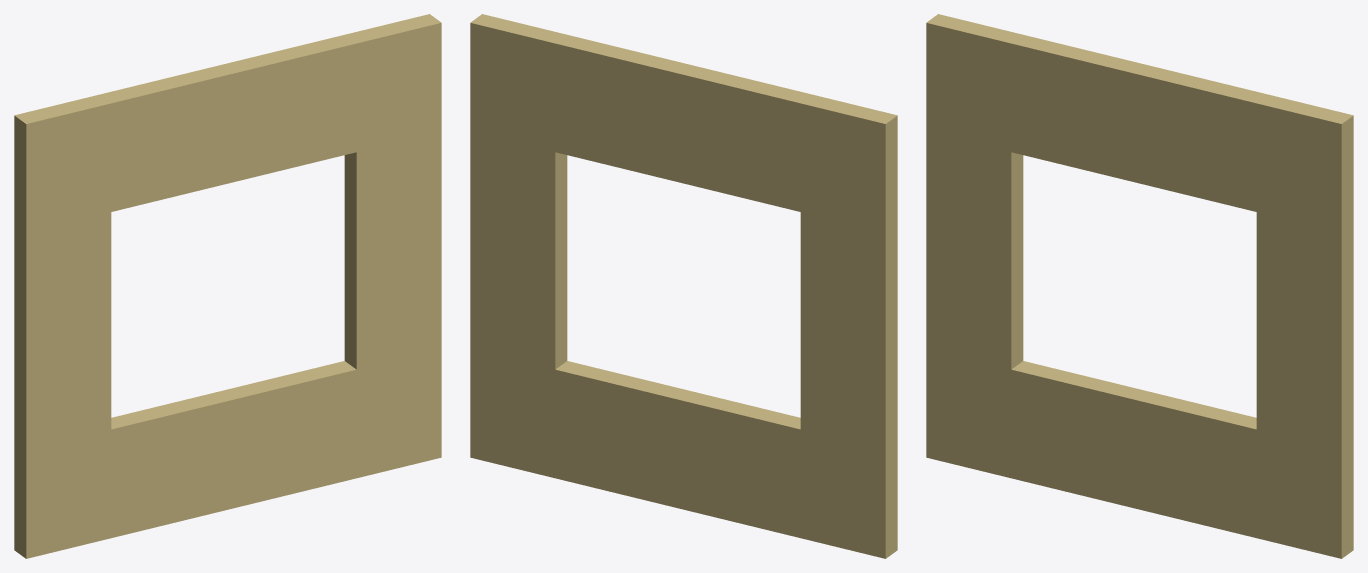
Rendered from Wal_6_C.fbx.
3 renders of one model, left to right at view 1: azimuth 30°, elevation 25°; view 2: azimuth 150°, elevation 25°; view 3: azimuth 330°, elevation 25°, orthographic.
Parts seen in each view (by area): view 1: pCube56; view 2: pCube56; view 3: pCube56.
Part boxes in pixels (x1,y1,x2,y2): pCube56: [14, 14, 441, 558]; pCube56: [470, 14, 897, 558]; pCube56: [926, 14, 1353, 558].
Size of the model in its own units: 4 by 4 by 0.2.
Materials: 1 (1 with a texture image).
